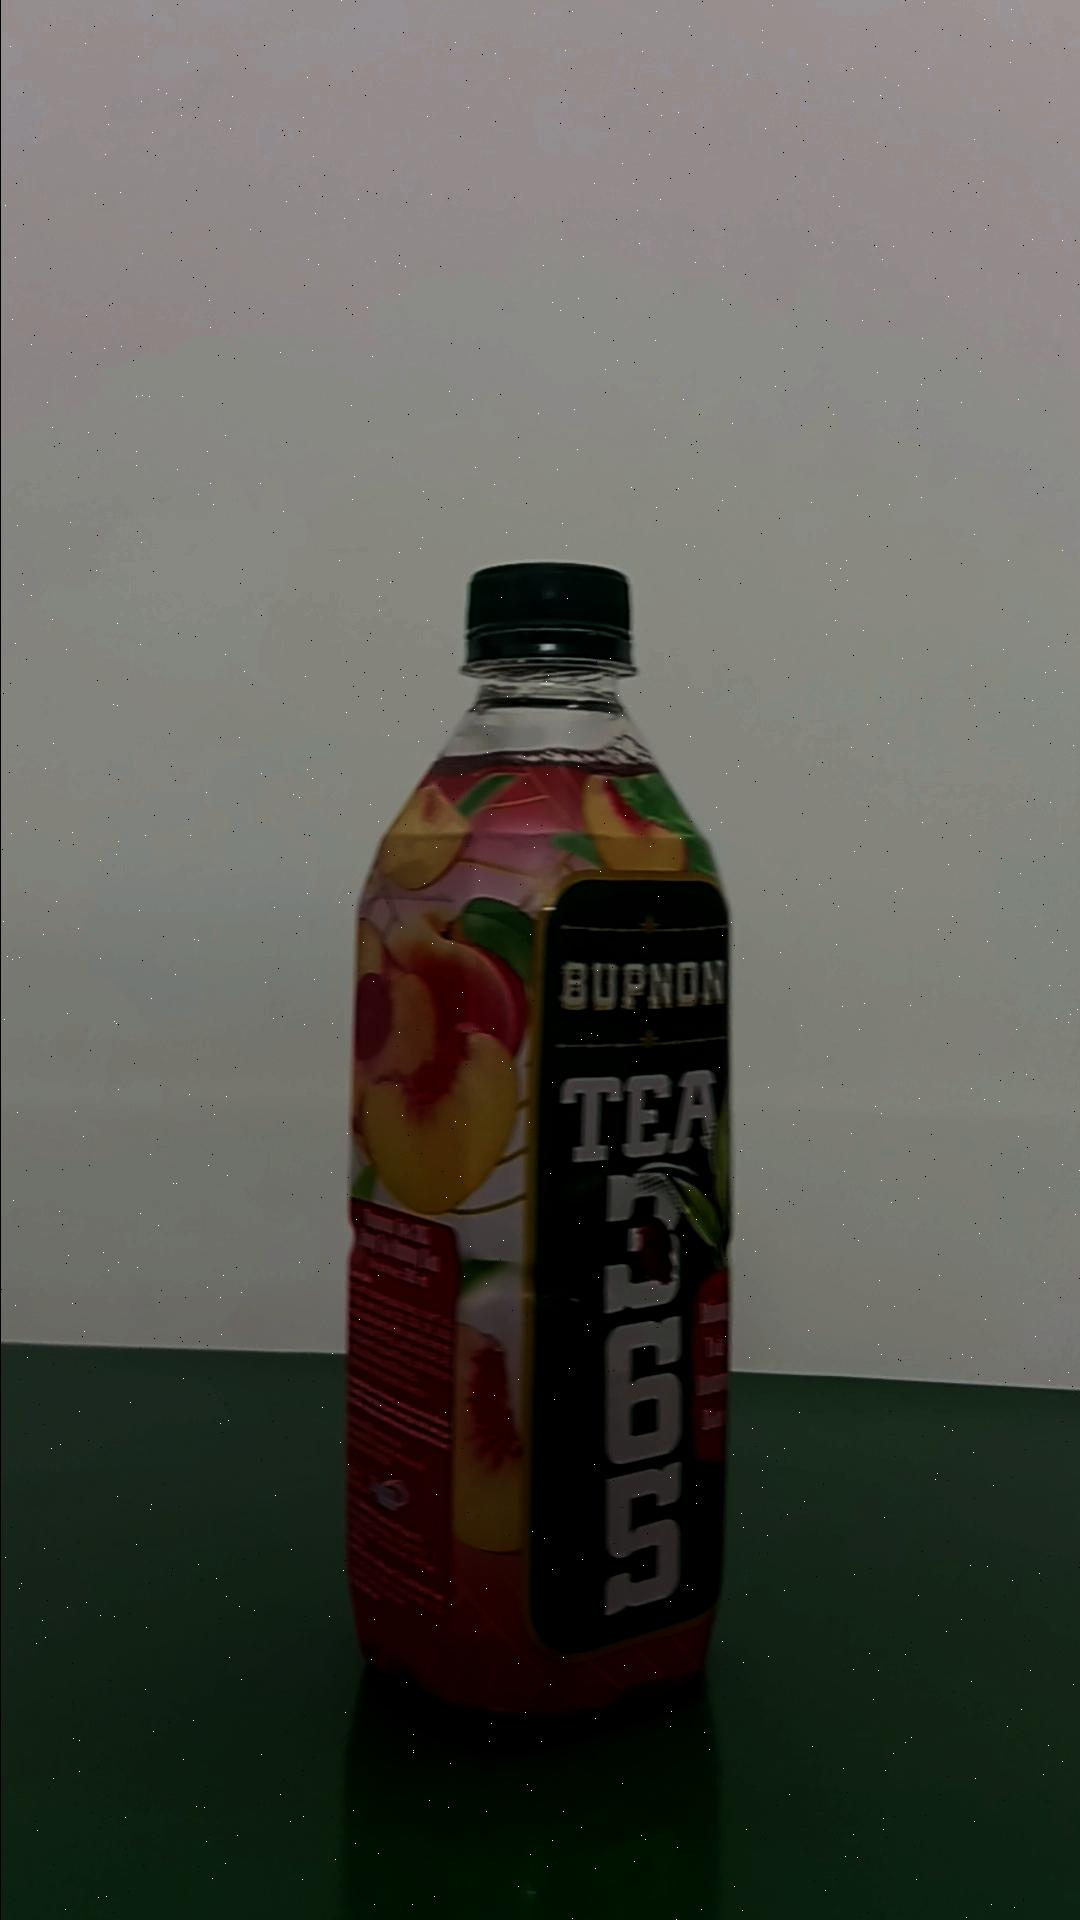loi rach va lap chai: (343, 551, 741, 1745)
